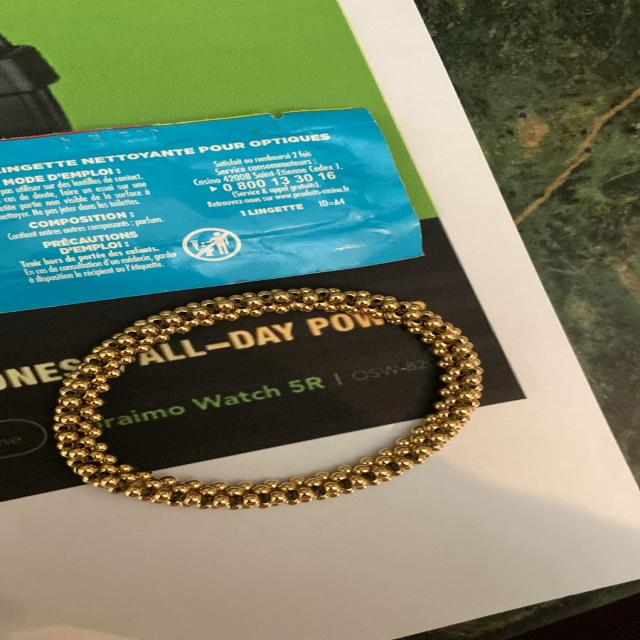Oraimo Watch 5R OSW-820: (81, 344, 469, 439)
